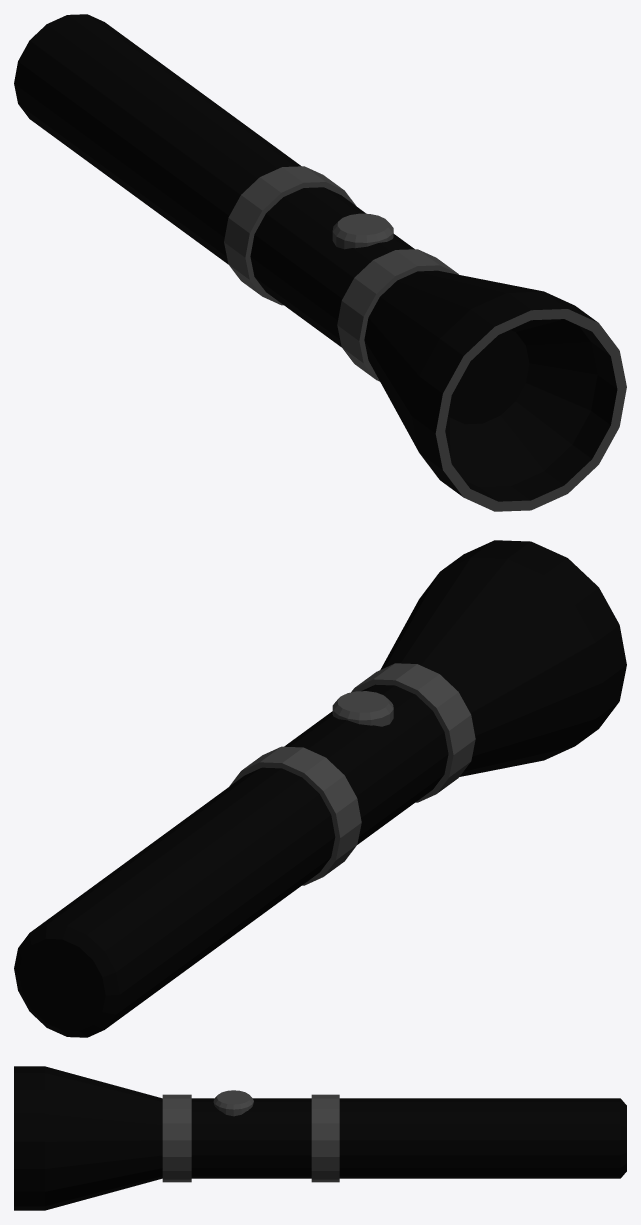
File: Flashlight_01.fbx
The picture shows the model from 3 angles, top to bottom: view 1: azimuth 30°, elevation 25°; view 2: azimuth 150°, elevation 25°; view 3: azimuth 270°, elevation 25°; orthographic projection. The views are drawn at different scales.
Parts seen in each view (by area): view 1: Flashlight_01; view 2: Flashlight_01; view 3: Flashlight_01.
Boxes of the visible parts, box(x1,y1,x2,y2) form: Flashlight_01: box(14, 14, 626, 511); Flashlight_01: box(14, 540, 626, 1037); Flashlight_01: box(14, 1066, 626, 1210).
Bounding box in the file's own units: 13.71 × 13.71 × 58.19.
